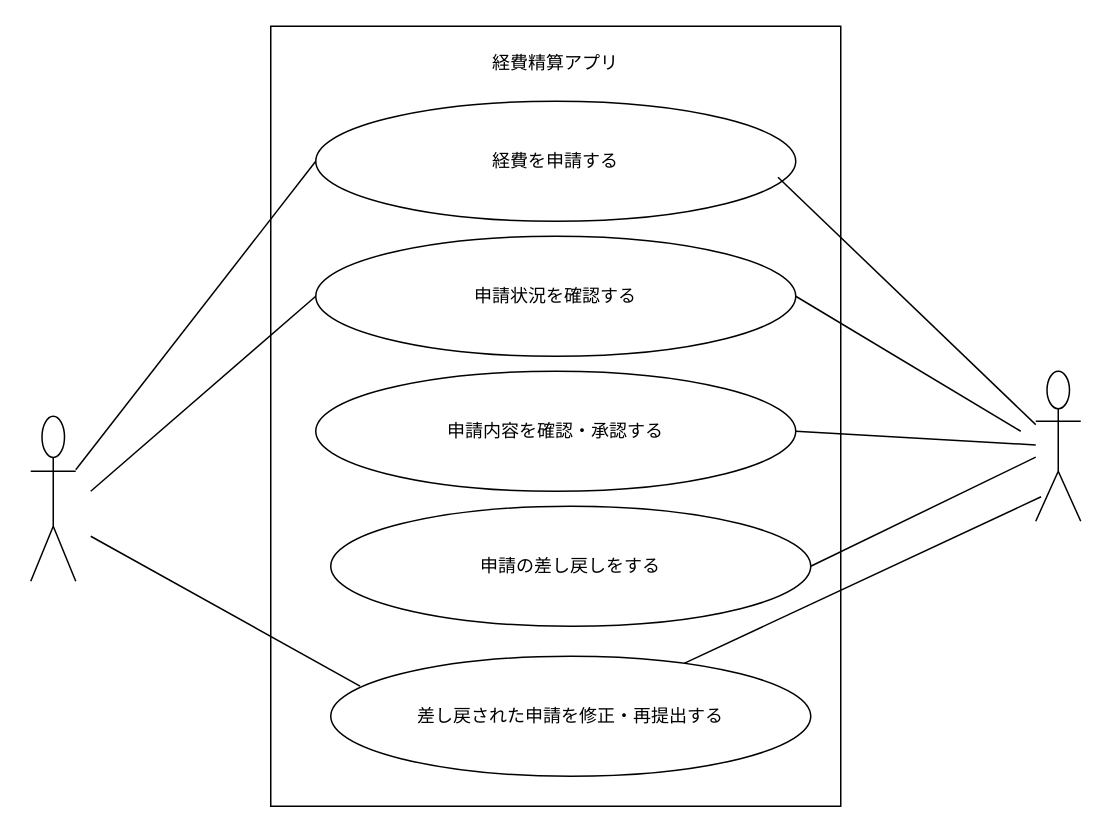
Some shapes in this 1110 by 833 pixel diagram are drawn without their labels. Here are the shapes that lost their labels. From the top down, the box of each, then its label:
(1034, 370, 1081, 521): 承認者
(29, 415, 76, 581): 申請者
